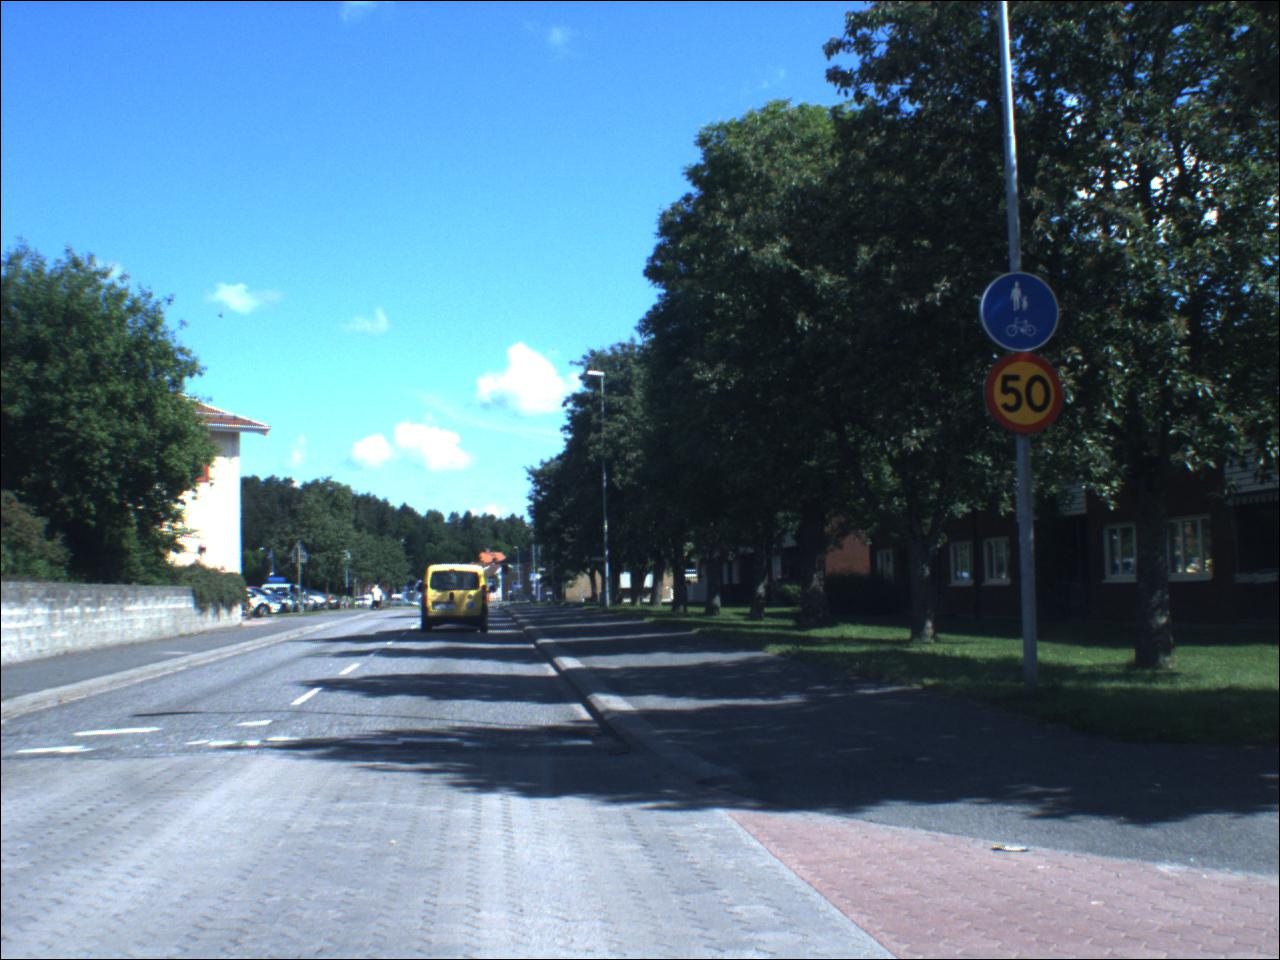50_SIGN: (986, 353, 1065, 436)
